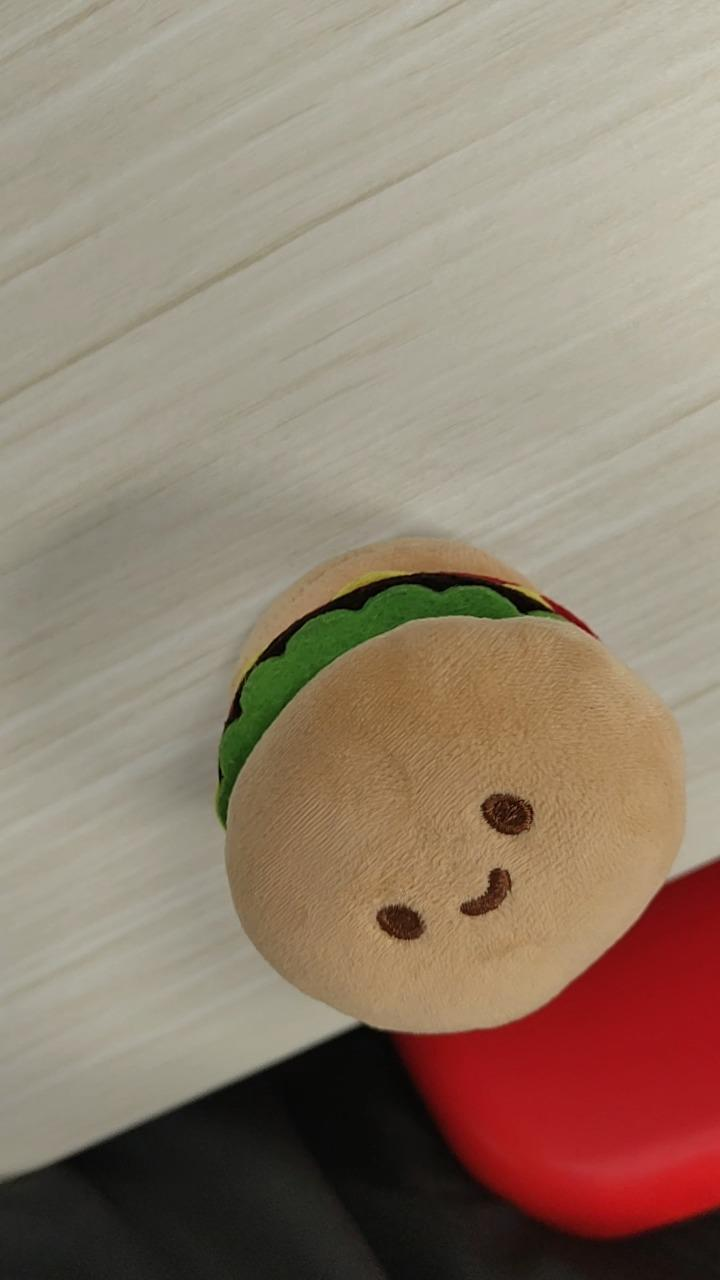hamburger: (213, 533, 686, 1034)
